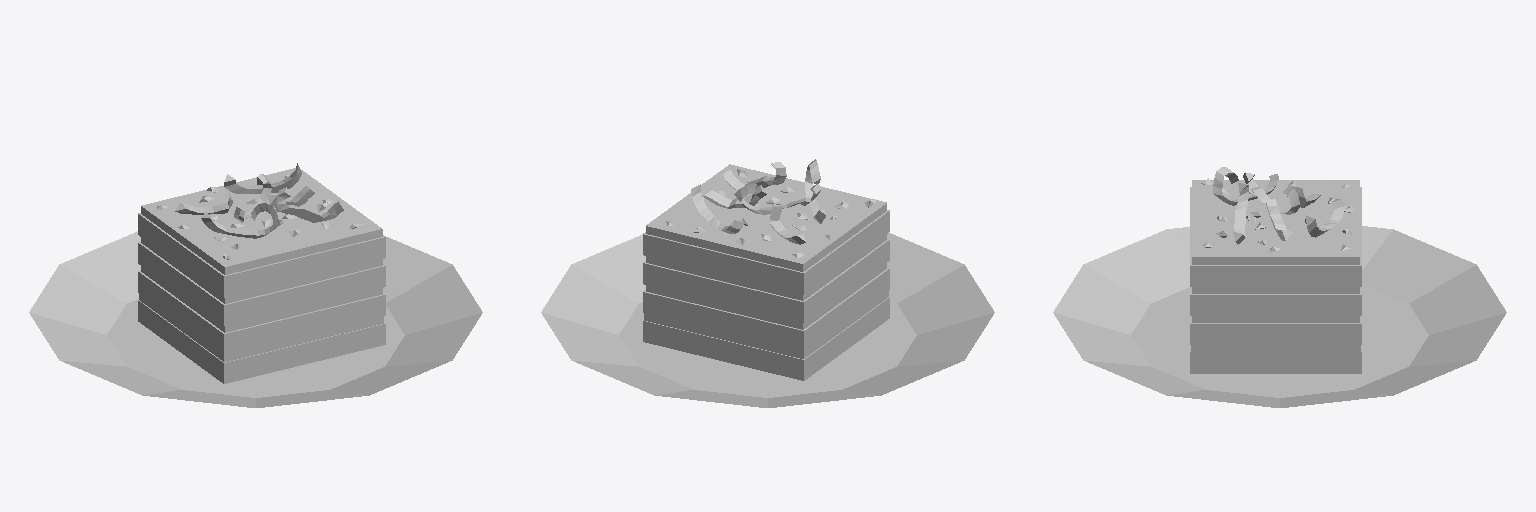
The model's file is tiramisu.obj.
3 views of the same model, side by side, from view 1: azimuth 30°, elevation 25°; view 2: azimuth 150°, elevation 25°; view 3: azimuth 270°, elevation 25° (orthographic).
Bounding box in the file's own units: 2 × 0.7682 × 2.